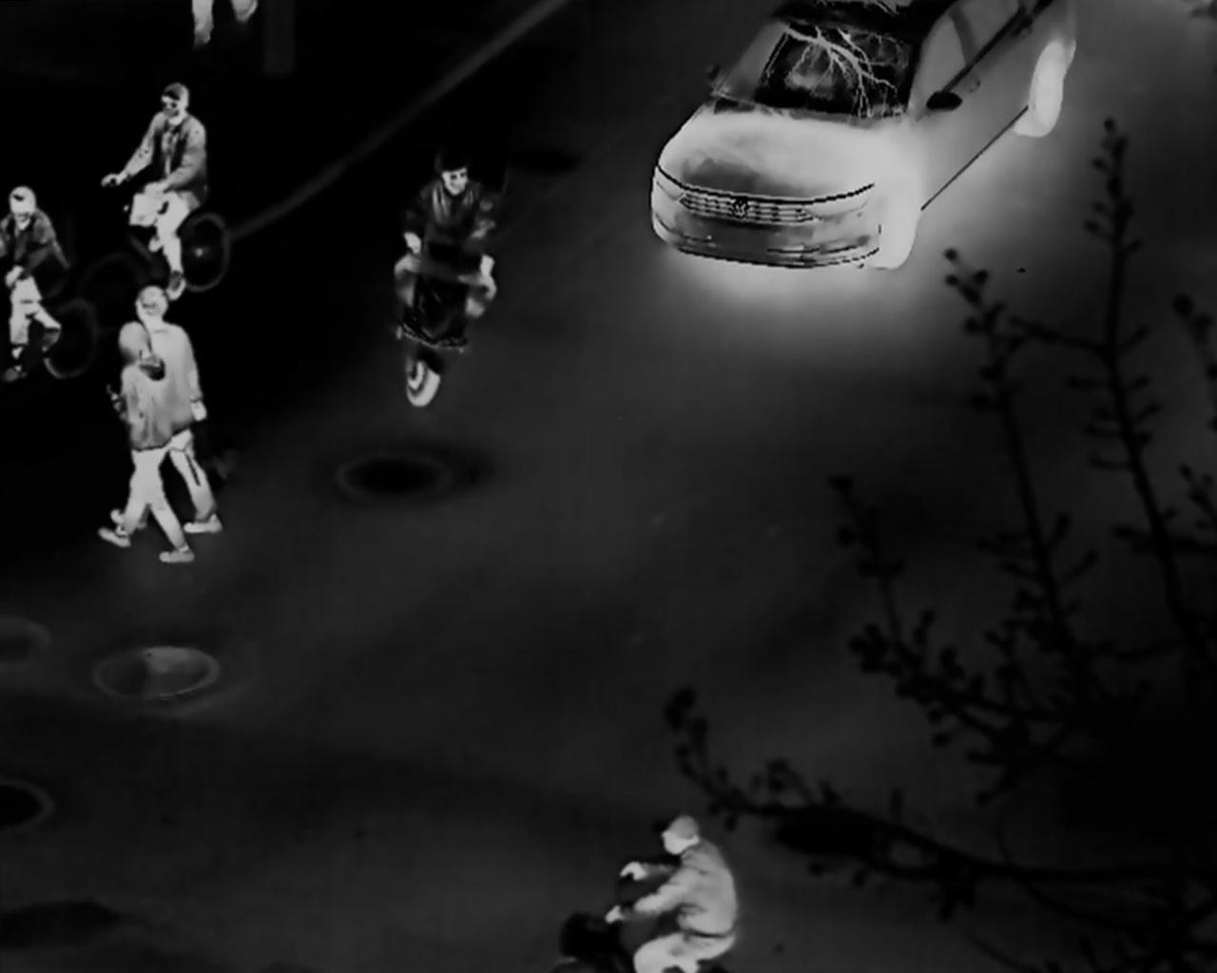person: (92, 320, 196, 565), (100, 81, 207, 303), (133, 283, 222, 538), (604, 815, 739, 973), (391, 149, 496, 322), (2, 184, 67, 382)
